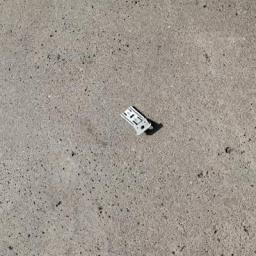FOD: (120, 102, 168, 141)
